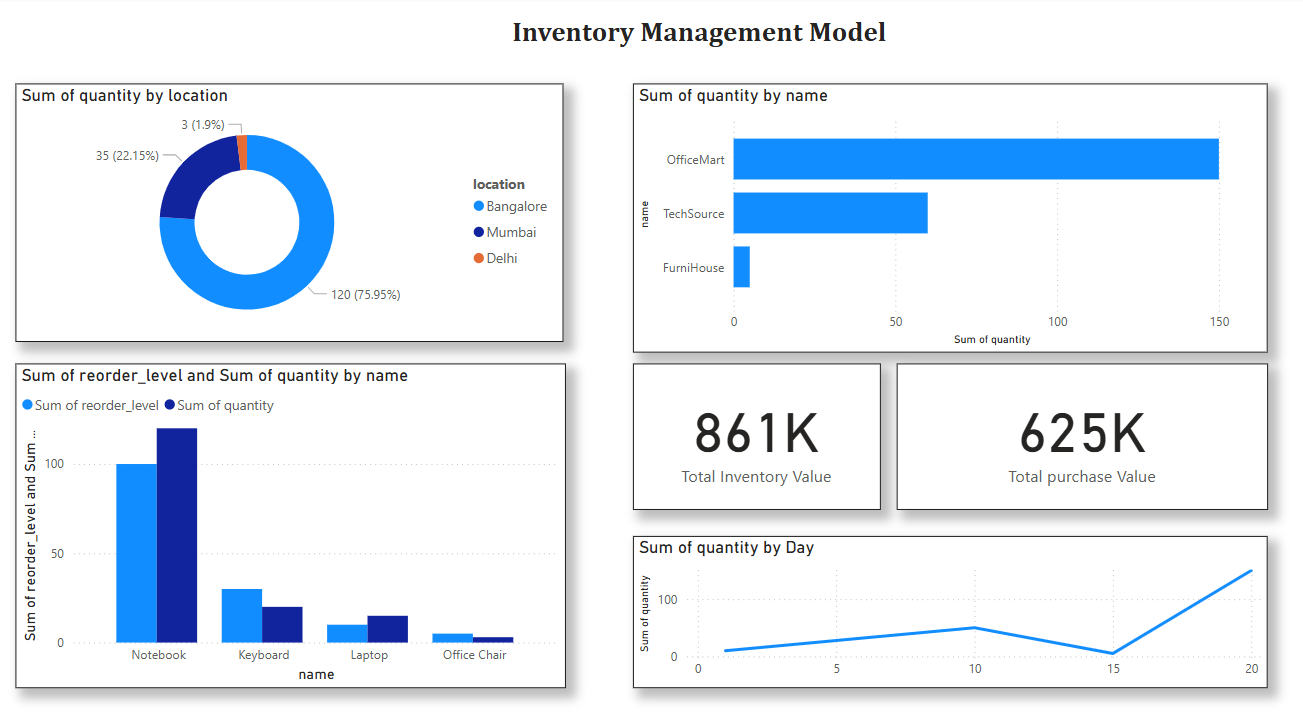

This screenshot's page, from the dashboard's own definition file:
{"tool":"powerbi","page":{"name":"Page 1","canvas":[1280,720],"ordinal":0},"visuals":[{"type":"donutChart","fields":{"Category":["warehouses.location"],"Y":["Sum(inventory.quantity)"]},"box":[17.1,85.6,535.6,253.1],"z":0},{"type":"clusteredColumnChart","fields":{"Category":["products.name"],"Y":["Sum(products.reorder_level)","Sum(inventory.quantity)"]},"box":[17.1,359.5,538,317.9],"z":1000},{"type":"clusteredBarChart","fields":{"Category":["suppliers.name"],"Y":["Sum(purchases.quantity)"]},"box":[621.2,85.6,621.2,262.9],"z":2000},{"type":"lineChart","fields":{"Category":["purchases.purchase_date.Variation.Date Hierarchy.Year","purchases.purchase_date.Variation.Date Hierarchy.Quarter","purchases.purchase_date.Variation.Date Hierarchy.Month","purchases.purchase_date.Variation.Date Hierarchy.Day"],"Y":["Sum(purchases.quantity)"]},"box":[621.2,528.3,621.2,149.2],"z":3000},{"type":"card","fields":{"Values":["inventory.Total Inventory Value"]},"box":[621.2,359.5,242.1,143.1],"z":4000},{"type":"card","fields":{"Values":["inventory.Total purchase Value"]},"box":[879.2,359.5,363.2,143.1],"z":4001},{"type":"textbox","box":[198.1,13.5,981.9,57.5],"z":4002}]}

Visuals, with their boxes in screenshot pixels (x1, y1, x2, y2), scaled from the page's 1280x720 canvas onto the 1303x727 screenshot:
donutChart - warehouses.location x Sum(inventory.quantity): <bbox>17, 86, 563, 342</bbox>
clusteredColumnChart - products.name x Sum(products.reorder_level): <bbox>17, 363, 565, 684</bbox>
clusteredBarChart - suppliers.name x Sum(purchases.quantity): <bbox>632, 86, 1265, 352</bbox>
lineChart - purchases.purchase_date.Variation.Date Hierarchy.Year x purchases.purchase_date.Variation.Date Hierarchy.Quarter: <bbox>632, 533, 1265, 684</bbox>
card - inventory.Total Inventory Value: <bbox>632, 363, 879, 507</bbox>
card - inventory.Total purchase Value: <bbox>895, 363, 1265, 507</bbox>
textbox: <bbox>202, 14, 1201, 72</bbox>
